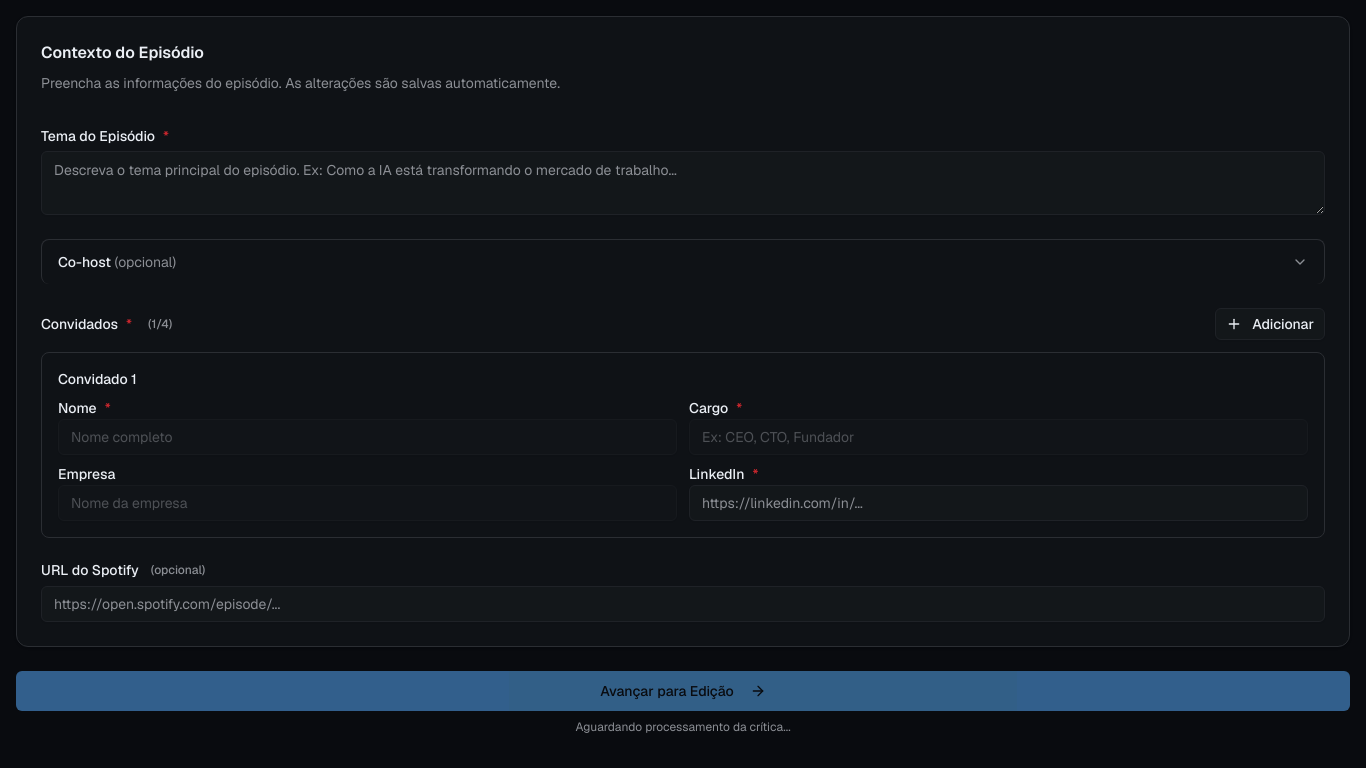
Test case: Phase1Critique › Scrape-driven field unlock (Story 24.7) › renders the manual avatar uploader button when scrape returned no photo
Replace the text in the text box labelled "Tema do Episódio *" with "tema qualquer": (683, 183) 41,151 -> 1325,215
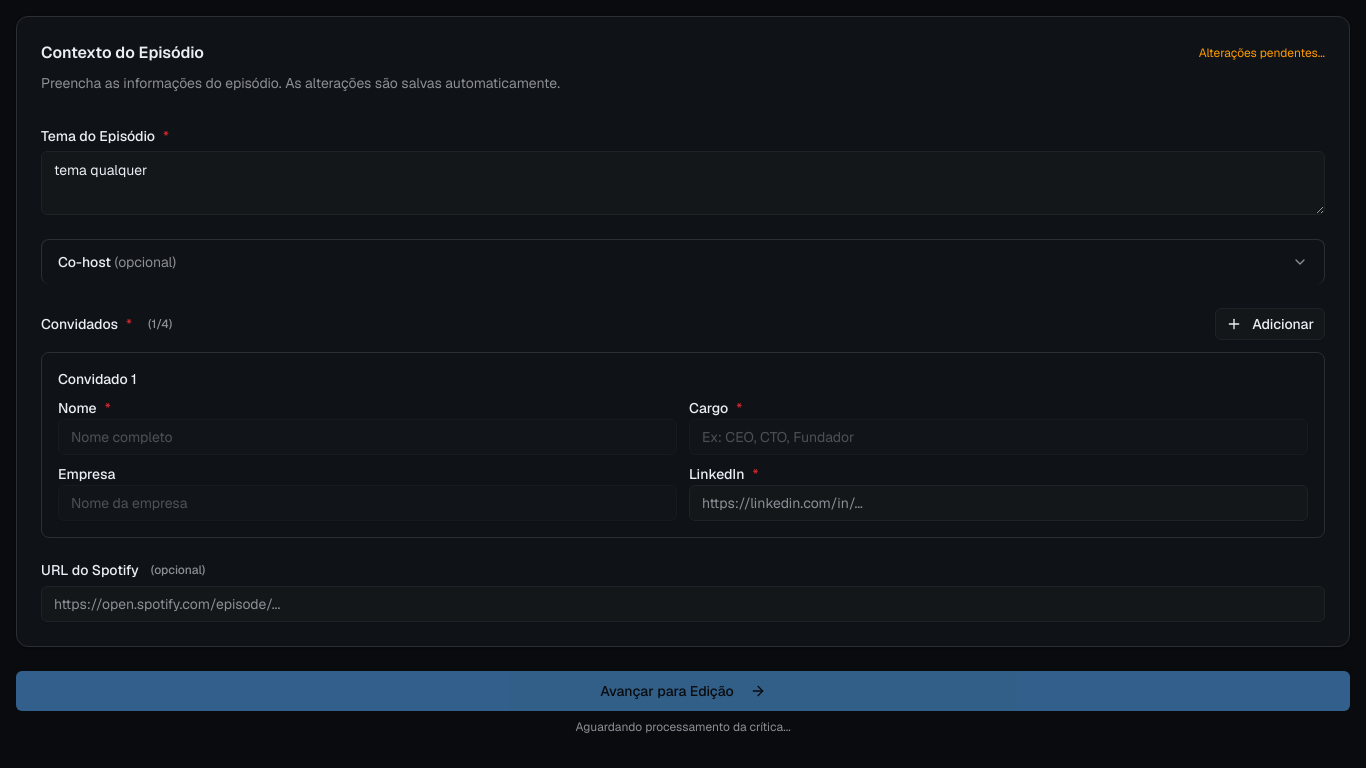
In the field labelled "LinkedIn *": (998, 503) 689,485 -> 1308,521, type "https://www.linkedin.com/in/sem-foto"
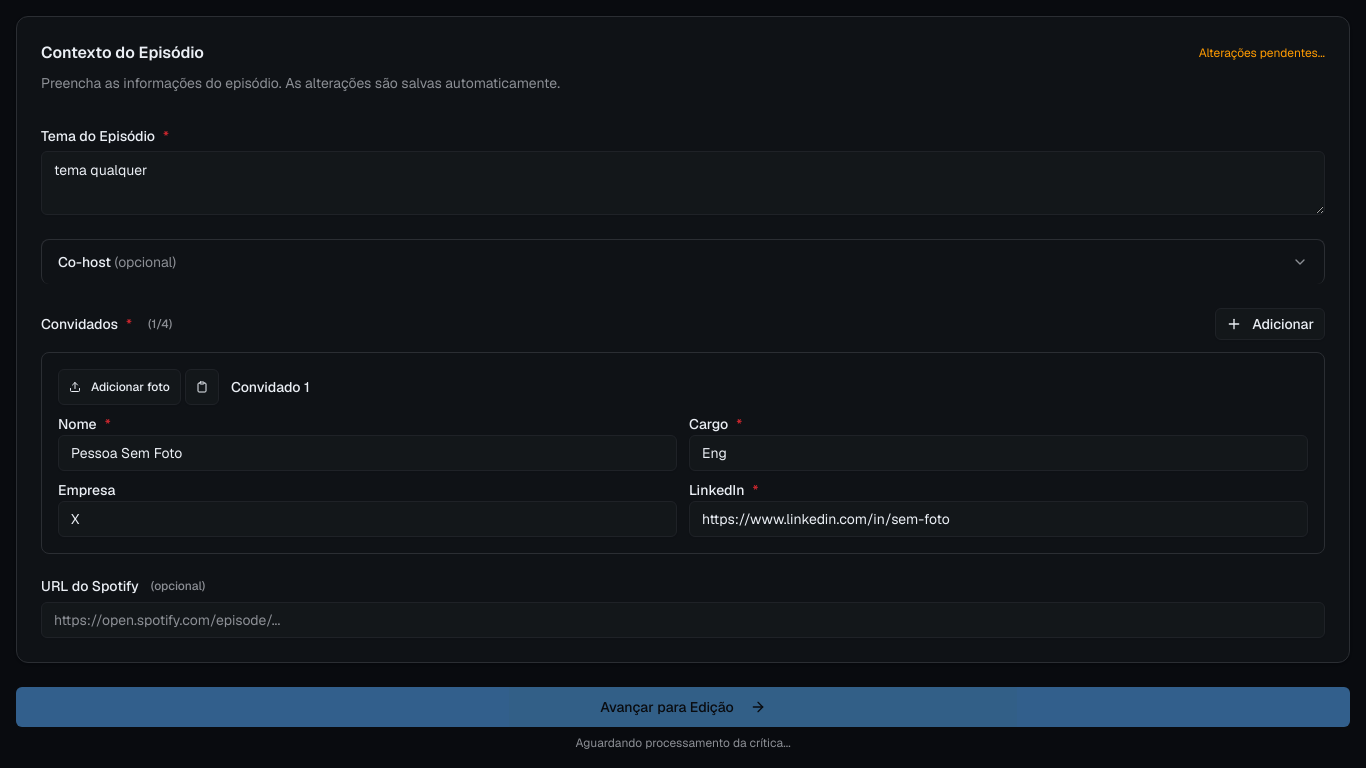
expect the field labelled "Nome *" holds "Pessoa Sem Foto": met, box 58,435 -> 677,471
expect the button "Adicionar foto" is shown: met, box 58,369 -> 181,405
